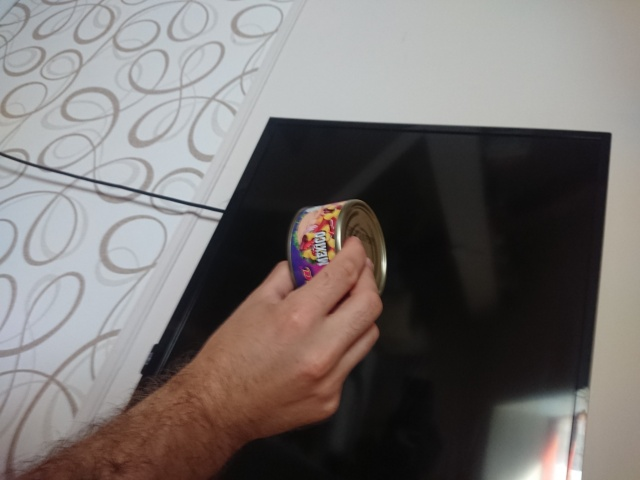Giana Tuna Salad Mexico 185g: (285, 196, 390, 314)
